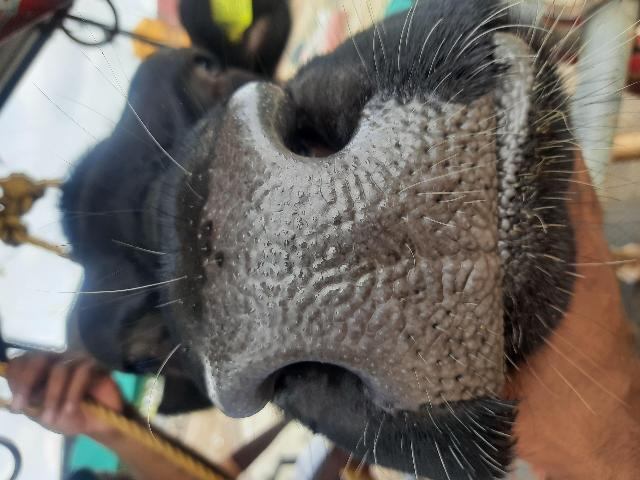Muzzle: (218, 160, 500, 358)
